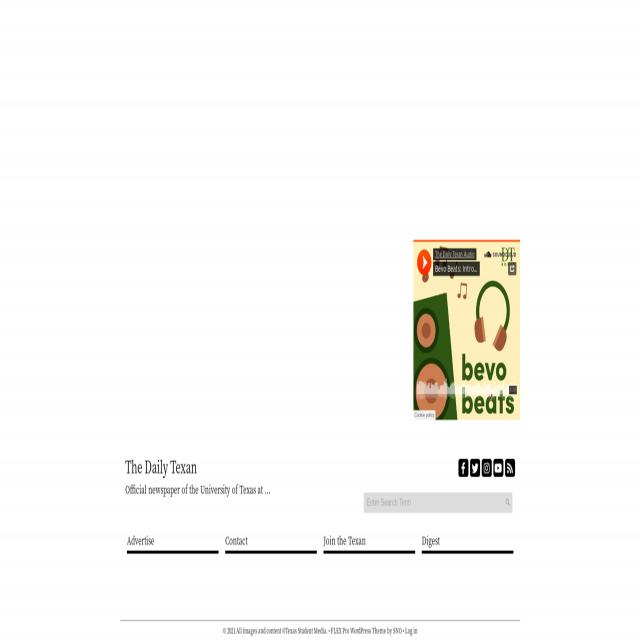button: (413, 240, 520, 422), (225, 530, 317, 554), (323, 530, 415, 554), (127, 530, 218, 554), (422, 530, 513, 554), (458, 458, 469, 478), (493, 458, 504, 478), (505, 458, 516, 477), (470, 458, 480, 478), (482, 460, 492, 478), (506, 494, 512, 511)
field: (364, 492, 512, 513)
